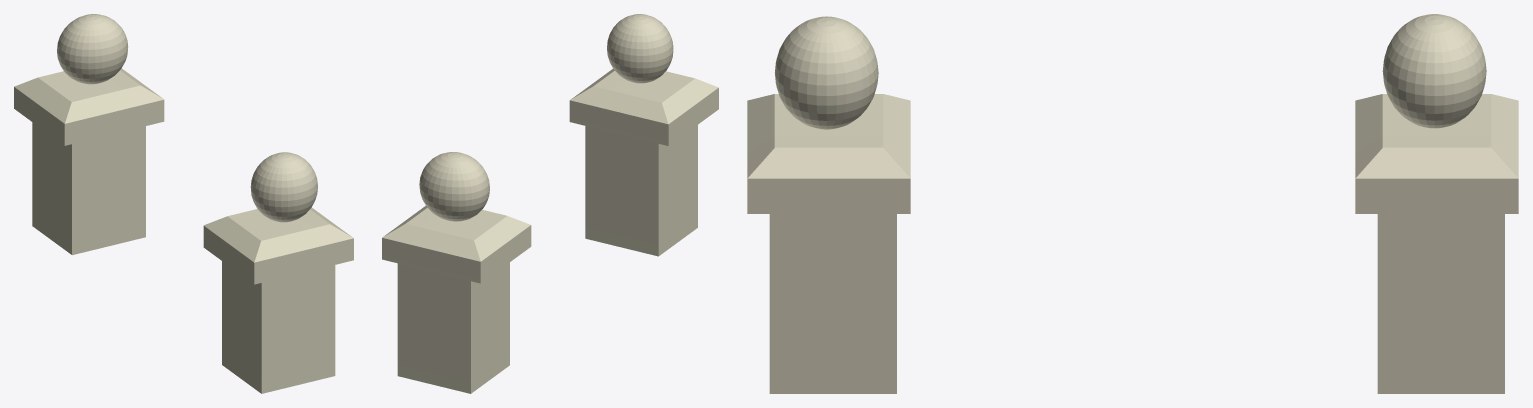
File: Entrada.obj
The picture shows the model from 3 angles, left to right: view 1: azimuth 30°, elevation 25°; view 2: azimuth 150°, elevation 25°; view 3: azimuth 270°, elevation 25°; orthographic projection. The views are drawn at different scales.
Parts seen in each view (by area): view 1: Cube, Cube_002, Cube_001, Cube_003, Sphere_001, Sphere; view 2: Cube_002, Cube, Cube_001, Cube_003, Sphere_001, Sphere; view 3: Cube, Cube_002, Cube_003, Cube_001, Sphere_001, Sphere.
Part boxes in pixels (<box>): Cube: <box>222,261,335,393</box>; Cube_002: <box>32,122,145,255</box>; Cube_001: <box>203,207,353,284</box>; Cube_003: <box>14,68,164,145</box>; Sphere_001: <box>57,14,128,84</box>; Sphere: <box>250,152,317,222</box>; Cube_002: <box>397,262,509,393</box>; Cube: <box>585,125,697,256</box>; Cube_001: <box>569,69,718,145</box>; Cube_003: <box>382,206,531,283</box>; Sphere_001: <box>419,152,489,221</box>; Sphere: <box>607,14,673,83</box>; Cube: <box>769,214,896,393</box>; Cube_002: <box>1377,214,1504,393</box>; Cube_003: <box>1355,94,1518,213</box>; Cube_001: <box>747,94,910,213</box>; Sphere_001: <box>1382,14,1486,128</box>; Sphere: <box>775,16,878,129</box>.
Bounding box in the file's own units: 1.52 × 3.15 × 6.35.
